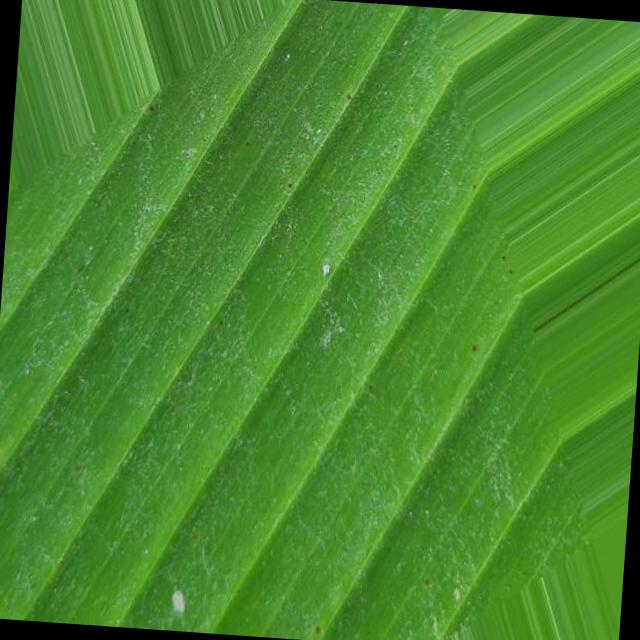Banana_Healthy: (70, 167, 546, 640)
